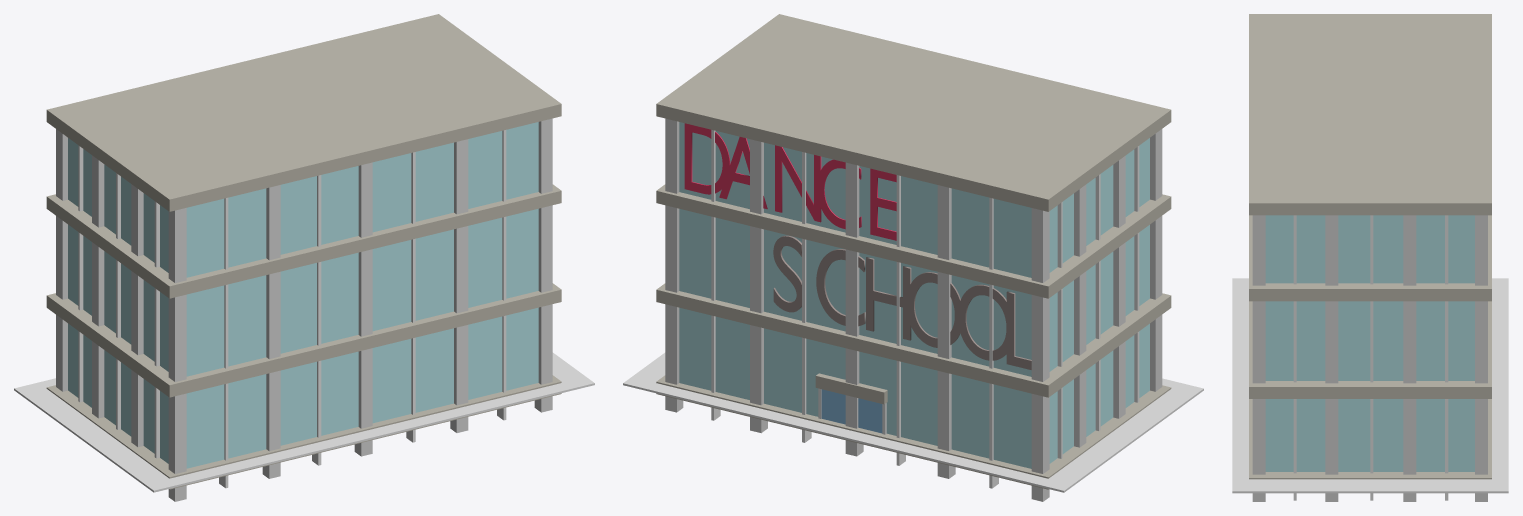
Rendered from DanceSchool.fbx.
The picture shows the model from 3 angles, left to right: view 1: azimuth 30°, elevation 25°; view 2: azimuth 150°, elevation 25°; view 3: azimuth 270°, elevation 25°; orthographic projection.
Parts seen in each view (by area): view 1: Cube.001, Cube.030, Cube.032, Cube.031, Cube, Cube.003, Cube.033, Cube.005, Cube.006, Cube.004, Cube.002, Cube.015 (+9 smaller); view 2: Cube.001, Cube.030, Cube.031, Cube.032, Cube, Cube.008, Cube.033, Cube.007, Cube.011, Cube.010, Cube.009, Cube.014 (+22 smaller); view 3: Cube.030, Cube.001, Cube, Cube.031, Cube.032, Cube.002, Cube.012, Cube.013, Cube.007, Cube.033, Cube.024, Cube.025 (+1 smaller).
Boxes of the visible parts, <box> form: Cube.001: <box>68,122,538,468</box>; Cube.030: <box>46,14,561,211</box>; Cube.032: <box>46,283,561,397</box>; Cube.031: <box>46,184,561,298</box>; Cube: <box>14,352,594,492</box>; Cube.003: <box>168,208,186,501</box>; Cube.033: <box>46,375,561,489</box>; Cube.005: <box>450,139,468,432</box>; Cube.006: <box>262,185,280,478</box>; Cube.004: <box>354,162,372,456</box>; Cube.002: <box>534,118,552,412</box>; Cube.015: <box>131,184,143,447</box>; Cube.001: <box>679,122,1149,468</box>; Cube.030: <box>656,14,1171,211</box>; Cube.031: <box>656,184,1171,298</box>; Cube.032: <box>656,283,1171,397</box>; Cube: <box>623,352,1203,492</box>; Cube.008: <box>1031,208,1049,501</box>; Cube.033: <box>656,375,1171,489</box>; Cube.007: <box>665,118,683,412</box>; Cube.011: <box>937,185,955,478</box>; Cube.010: <box>750,139,767,433</box>; Cube.009: <box>845,162,863,456</box>; Cube.014: <box>1074,184,1086,447</box>; Cube.030: <box>1249,14,1491,215</box>; Cube.001: <box>1265,215,1474,471</box>; Cube: <box>1232,278,1508,493</box>; Cube.031: <box>1249,215,1491,301</box>; Cube.032: <box>1249,301,1491,398</box>; Cube.002: <box>1252,215,1265,501</box>; Cube.012: <box>1403,215,1416,501</box>; Cube.013: <box>1325,215,1338,501</box>; Cube.007: <box>1475,215,1487,501</box>; Cube.033: <box>1249,399,1491,479</box>; Cube.024: <box>1293,215,1296,500</box>; Cube.025: <box>1370,215,1373,500</box>.
Bounding box in the file's own units: 7699 × 5097 × 4227.
